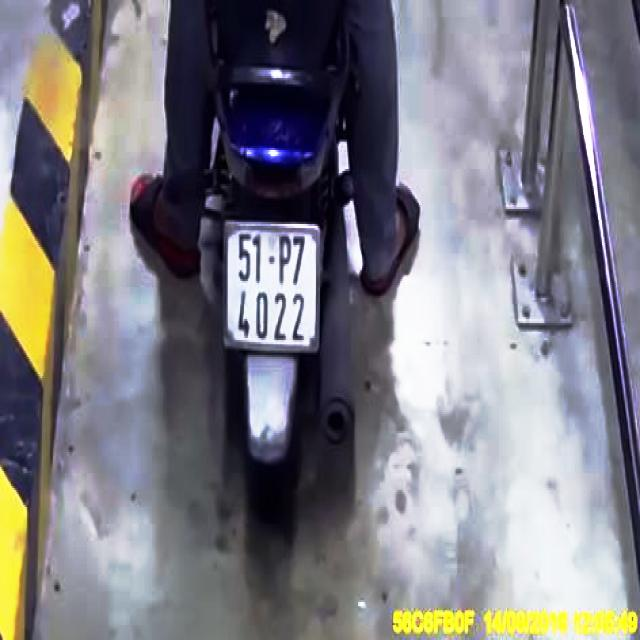license_plate: (224, 222, 321, 353)
